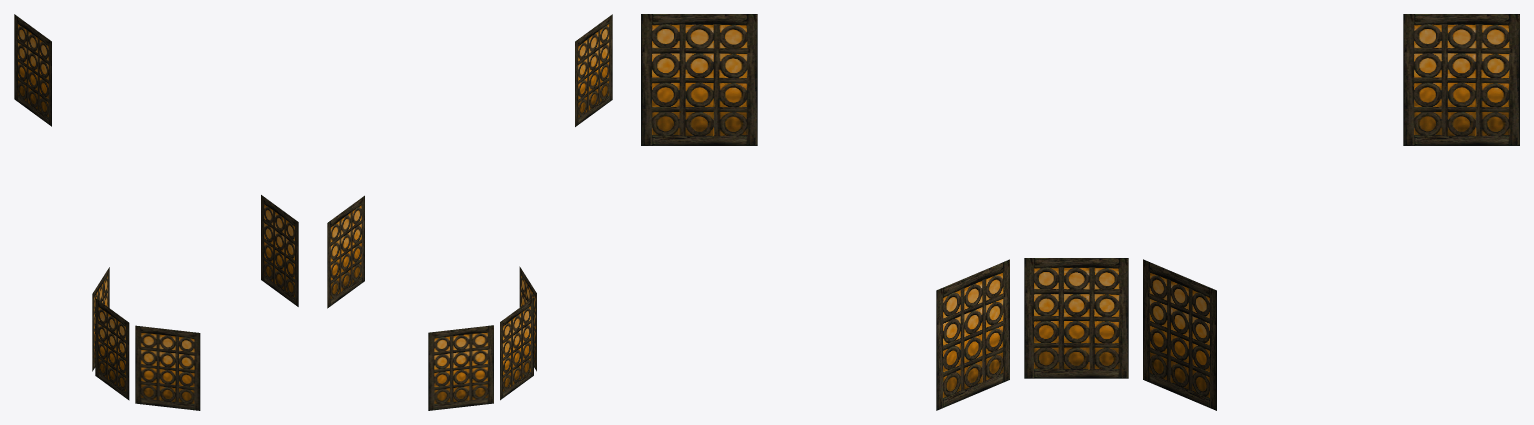
The model's file is LAKETOWN_EXTERIOR_PS_LT_WINDOWS22936.fbx.
3 views of the same model, side by side, from view 1: azimuth 30°, elevation 25°; view 2: azimuth 150°, elevation 25°; view 3: azimuth 270°, elevation 25° (orthographic). The views are drawn at different scales.
Visible parts, largest first — view 1: LAKETOWN_EXTERIOR_PS_LT_WINDOWS22936; view 2: LAKETOWN_EXTERIOR_PS_LT_WINDOWS22936; view 3: LAKETOWN_EXTERIOR_PS_LT_WINDOWS22936.
Part boxes in pixels (x1=…): LAKETOWN_EXTERIOR_PS_LT_WINDOWS22936: x1=14, y1=14, x2=298, y2=410; LAKETOWN_EXTERIOR_PS_LT_WINDOWS22936: x1=327, y1=14, x2=612, y2=410; LAKETOWN_EXTERIOR_PS_LT_WINDOWS22936: x1=641, y1=14, x2=1519, y2=410.
Bounding box in the file's own units: 8167 × 44288 × 88391.
Materials: 1 (1 with a texture image).
